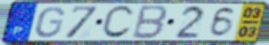2: (173, 5, 206, 41)
6: (207, 6, 237, 38)
7: (65, 5, 100, 40)
B: (130, 4, 170, 40)
C: (100, 4, 136, 40)
G: (33, 6, 66, 39)
